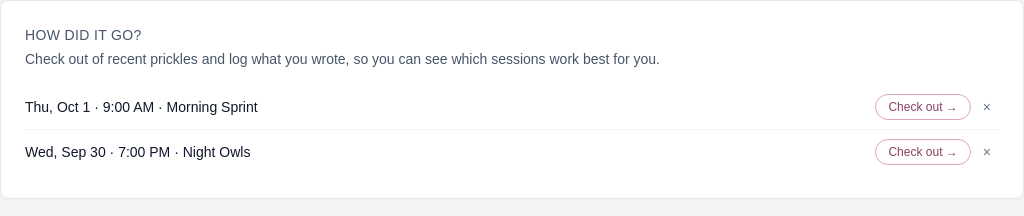
it: UnloggedPricklesCard › dismisses a prickle: hides it, saves it and refreshes
Click the button "×" in the row of "Thu, Oct 1 · 9:00 AM · Morning Sprint" at (987, 107), box [975,93,999,121]
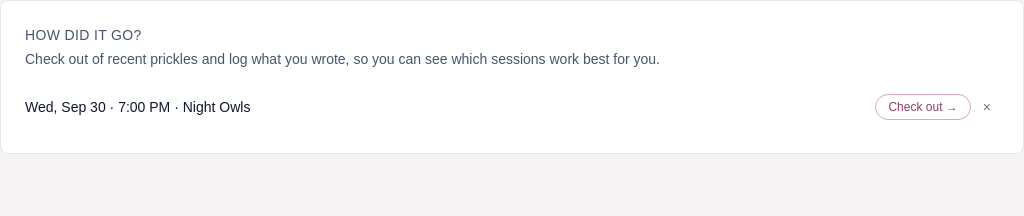
Expected: the link "Wed, Sep 30 · 7:00 PM · Night Owls" is shown, [25,97,250,117]
Expected: the link "Thu, Oct 1 · 9:00 AM · Morning Sprint" is gone
